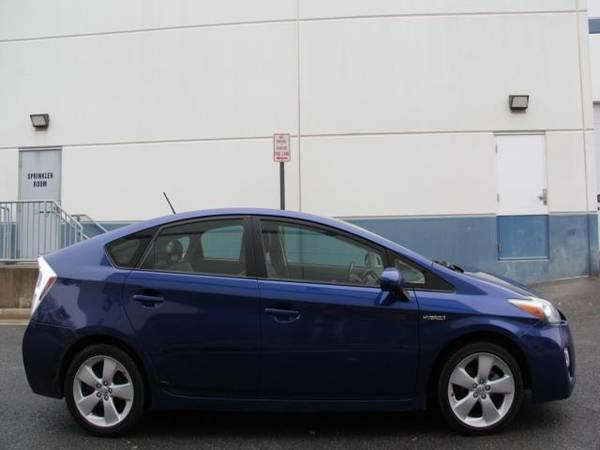Front_Bumper: (515, 321, 574, 402)
Front_Fender: (414, 267, 536, 415)
Front_Right_Door: (257, 283, 423, 418)
Front_Right_Window: (249, 208, 430, 291)
Left_Taillight: (28, 254, 57, 316)
Rear_Bumper: (20, 318, 79, 398)
Rear_Fender: (30, 218, 166, 339)
Rear_Right_Door: (119, 269, 264, 408)
Rear_Right_Window: (134, 209, 255, 281)
Right_Headlight: (511, 300, 565, 326)
Wheel: (441, 342, 526, 435), (64, 336, 140, 431)
